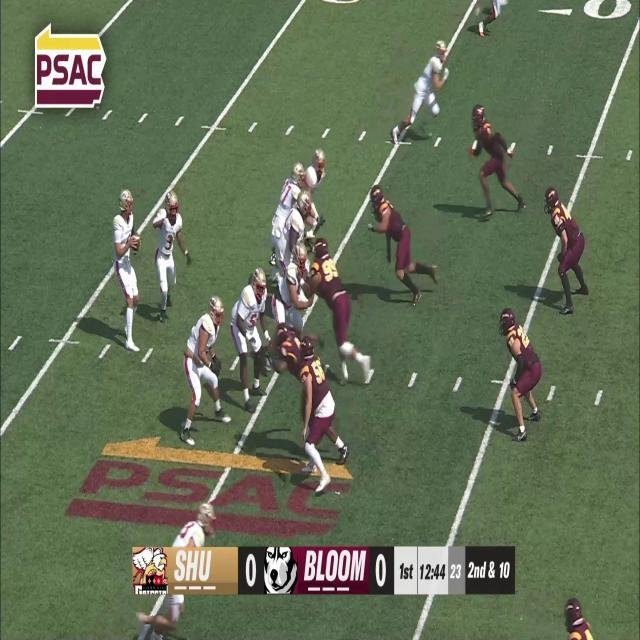football: (131, 231, 141, 254)
